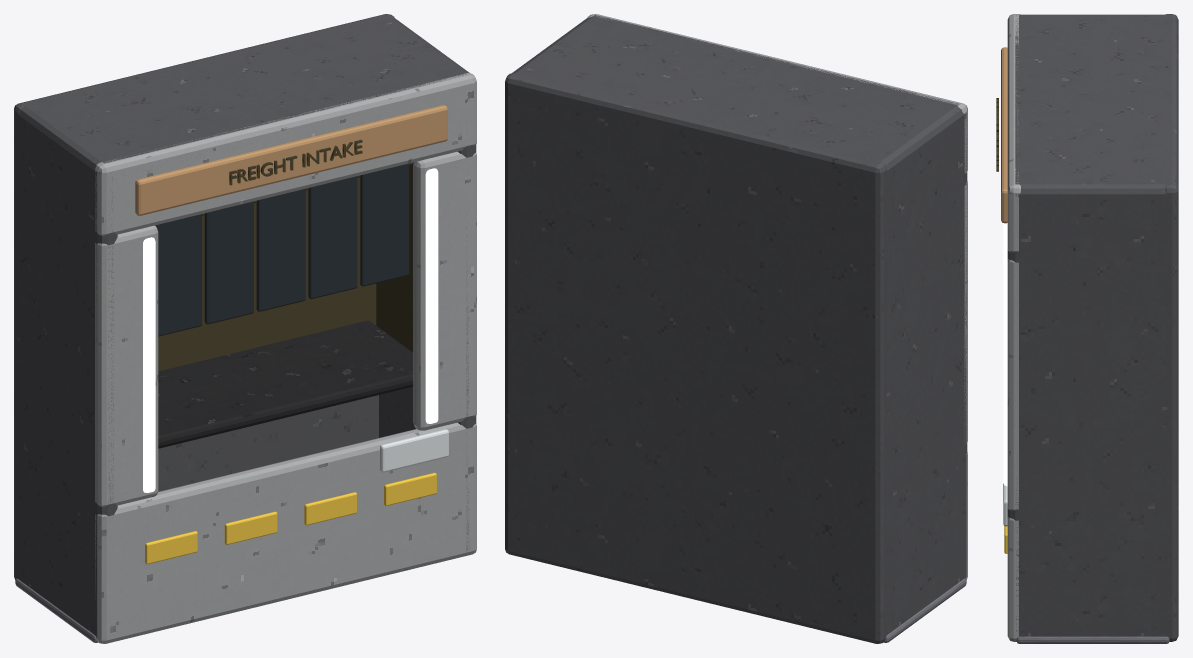
Rendered from decor_cargo_intake_port.glb.
The picture shows the model from 3 angles, left to right: view 1: azimuth 30°, elevation 25°; view 2: azimuth 150°, elevation 25°; view 3: azimuth 270°, elevation 25°; orthographic projection. The views are drawn at different scales.
Visible parts, largest first — view 1: DEC_CargoIntakePort__Mouth_Sill, DEC_CargoIntakePort__Side_L, DEC_CargoIntakePort__Top, DEC_CargoIntakePort__Deck, DEC_CargoIntakePort__Mouth_Header, DEC_CargoIntakePort__Mouth_Jamb_R, DEC_CargoIntakePort__Mouth_Jamb_L, DEC_CargoIntakePort__Back_Panel, DEC_CargoIntakePort__Header_Band, DEC_CargoIntakePort__Liner_Back, DEC_CargoIntakePort__Curtain_4, DEC_CargoIntakePort__Curtain_5 (+14 smaller); view 2: DEC_CargoIntakePort__Back_Panel, DEC_CargoIntakePort__Side_L, DEC_CargoIntakePort__Top, DEC_CargoIntakePort__Side_R, DEC_CargoIntakePort__Mouth_Header, DEC_CargoIntakePort__Mouth_Jamb_L, DEC_CargoIntakePort__Foot_L; view 3: DEC_CargoIntakePort__Side_R, DEC_CargoIntakePort__Top, DEC_CargoIntakePort__Back_Panel, DEC_CargoIntakePort__Mouth_Jamb_R, DEC_CargoIntakePort__Mouth_Header, DEC_CargoIntakePort__Mouth_Sill, DEC_CargoIntakePort__Header_Band, DEC_CargoIntakePort__Foot_R, DEC_CargoIntakePort__Mouth_Light_R.
Boxes of the visible parts, x1,y1,x2,y2 form: DEC_CargoIntakePort__Mouth_Sill: [95, 422, 476, 643]; DEC_CargoIntakePort__Side_L: [17, 102, 117, 636]; DEC_CargoIntakePort__Top: [18, 15, 469, 173]; DEC_CargoIntakePort__Deck: [158, 320, 413, 448]; DEC_CargoIntakePort__Mouth_Header: [95, 73, 476, 235]; DEC_CargoIntakePort__Mouth_Jamb_R: [413, 151, 476, 430]; DEC_CargoIntakePort__Mouth_Jamb_L: [95, 225, 158, 506]; DEC_CargoIntakePort__Back_Panel: [14, 14, 394, 579]; DEC_CargoIntakePort__Header_Band: [135, 105, 447, 215]; DEC_CargoIntakePort__Liner_Back: [158, 177, 376, 371]; DEC_CargoIntakePort__Curtain_4: [308, 176, 357, 299]; DEC_CargoIntakePort__Curtain_5: [360, 163, 409, 286]; DEC_CargoIntakePort__Back_Panel: [505, 73, 886, 643]; DEC_CargoIntakePort__Side_L: [868, 106, 967, 634]; DEC_CargoIntakePort__Top: [509, 15, 966, 179]; DEC_CargoIntakePort__Side_R: [509, 85, 515, 550]; DEC_CargoIntakePort__Mouth_Header: [587, 14, 967, 172]; DEC_CargoIntakePort__Mouth_Jamb_L: [964, 180, 967, 443]; DEC_CargoIntakePort__Foot_L: [883, 578, 966, 642]; DEC_CargoIntakePort__Side_R: [1007, 182, 1170, 636]; DEC_CargoIntakePort__Top: [1015, 14, 1170, 200]; DEC_CargoIntakePort__Back_Panel: [1165, 14, 1178, 641]; DEC_CargoIntakePort__Mouth_Jamb_R: [1007, 258, 1018, 510]; DEC_CargoIntakePort__Mouth_Header: [1007, 14, 1020, 252]; DEC_CargoIntakePort__Mouth_Sill: [1007, 517, 1018, 641]; DEC_CargoIntakePort__Header_Band: [1001, 47, 1007, 223]; DEC_CargoIntakePort__Foot_R: [1016, 636, 1169, 643]; DEC_CargoIntakePort__Mouth_Light_R: [1003, 241, 1007, 486].
Size of the model in its own units: 1.92 by 2.3 by 0.831.
10 materials, 4 textured.
